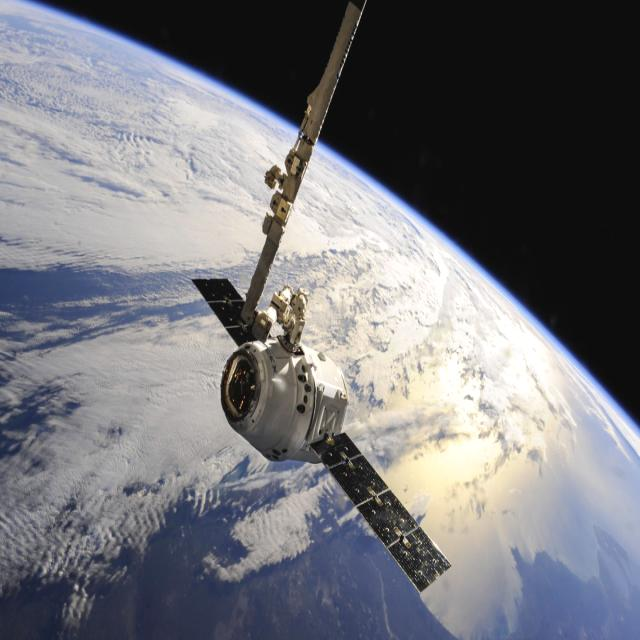medium_debris: (184, 0, 458, 606)
